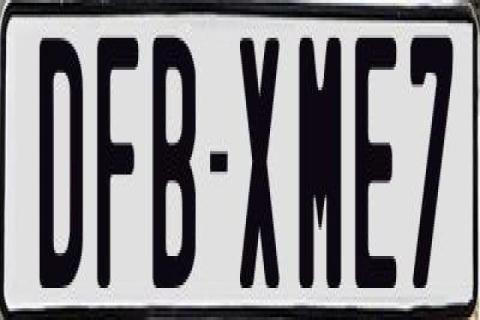0: (408, 29, 454, 279)
B: (150, 35, 200, 291)
D: (39, 35, 86, 297)
E: (356, 35, 402, 299)
F: (94, 29, 142, 291)
M: (296, 29, 338, 279)
X: (236, 32, 284, 300)
